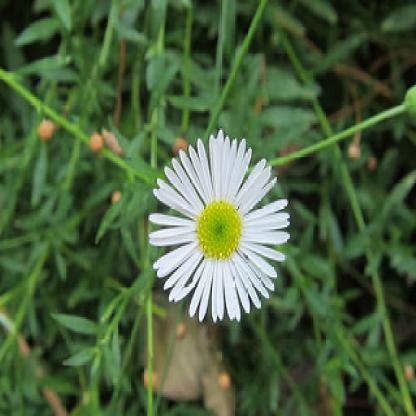ASTER: (117, 74, 329, 358)
